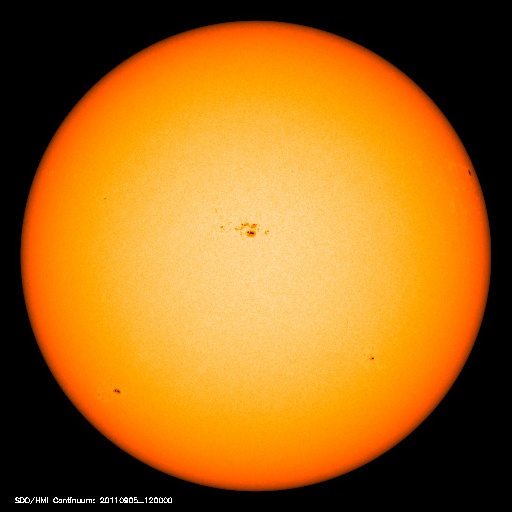sunspot: (212, 215, 275, 244), (93, 380, 125, 405), (360, 345, 384, 370), (459, 159, 479, 187)
